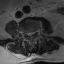CCS_normal: (29, 29, 31, 40)
LFS_normal: (33, 28, 36, 35)
LLS_normal: (31, 29, 33, 38)
RFS_stenosis: (25, 30, 27, 37)
RLS_normal: (27, 30, 29, 38)
